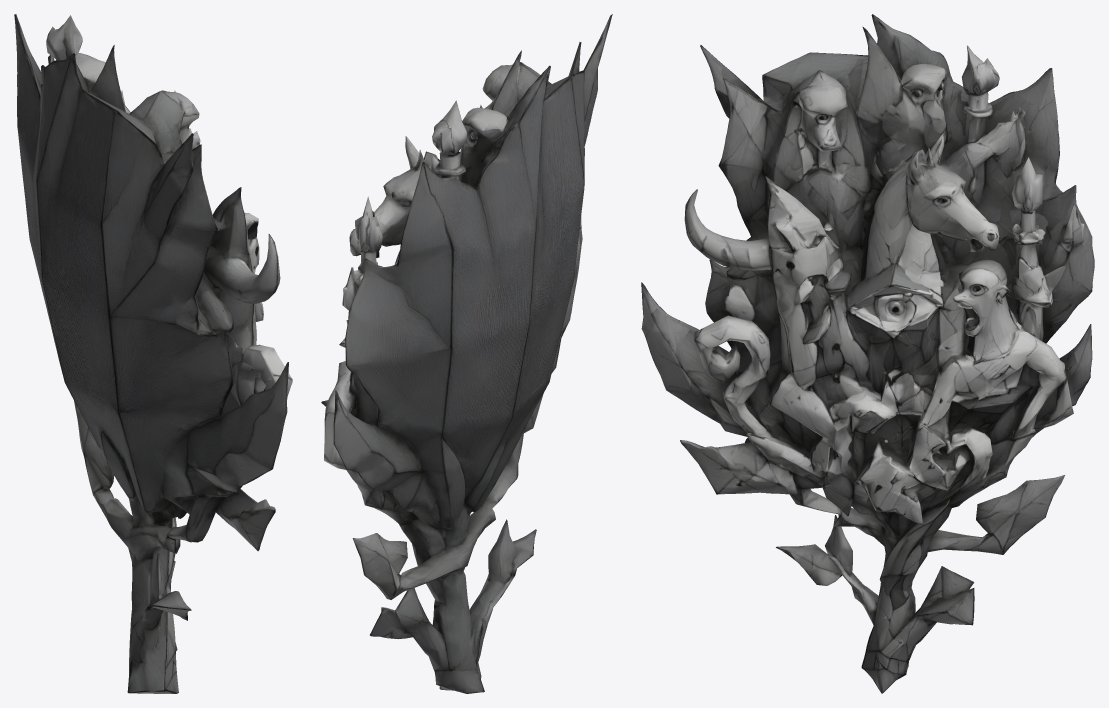
Rendered from abstract+plant+sculpture+1k.glb.
3 renders of one model, left to right at view 1: azimuth 30°, elevation 25°; view 2: azimuth 150°, elevation 25°; view 3: azimuth 270°, elevation 25°, orthographic. The views are drawn at different scales.
Parts seen in each view (by area): view 1: tripo_node_7f6326a2-2fe4-4758-be32-c0b7b69e6f7a; view 2: tripo_node_7f6326a2-2fe4-4758-be32-c0b7b69e6f7a; view 3: tripo_node_7f6326a2-2fe4-4758-be32-c0b7b69e6f7a.
Part boxes in pixels (x1,y1,x2,y2): tripo_node_7f6326a2-2fe4-4758-be32-c0b7b69e6f7a: (14, 14, 292, 693); tripo_node_7f6326a2-2fe4-4758-be32-c0b7b69e6f7a: (321, 14, 612, 693); tripo_node_7f6326a2-2fe4-4758-be32-c0b7b69e6f7a: (641, 14, 1094, 693).
Bounding box in the file's own units: 0.2791 × 1 × 0.6482.
Materials: 1 (1 with a texture image).
